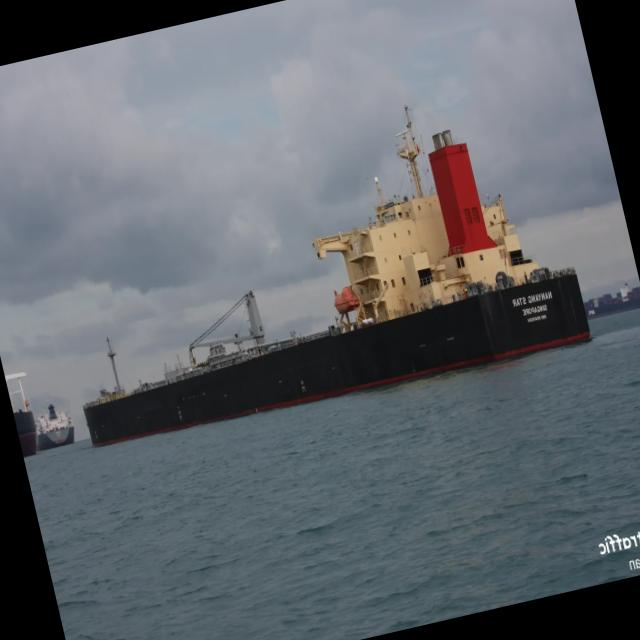Tanker: (84, 106, 589, 445)
